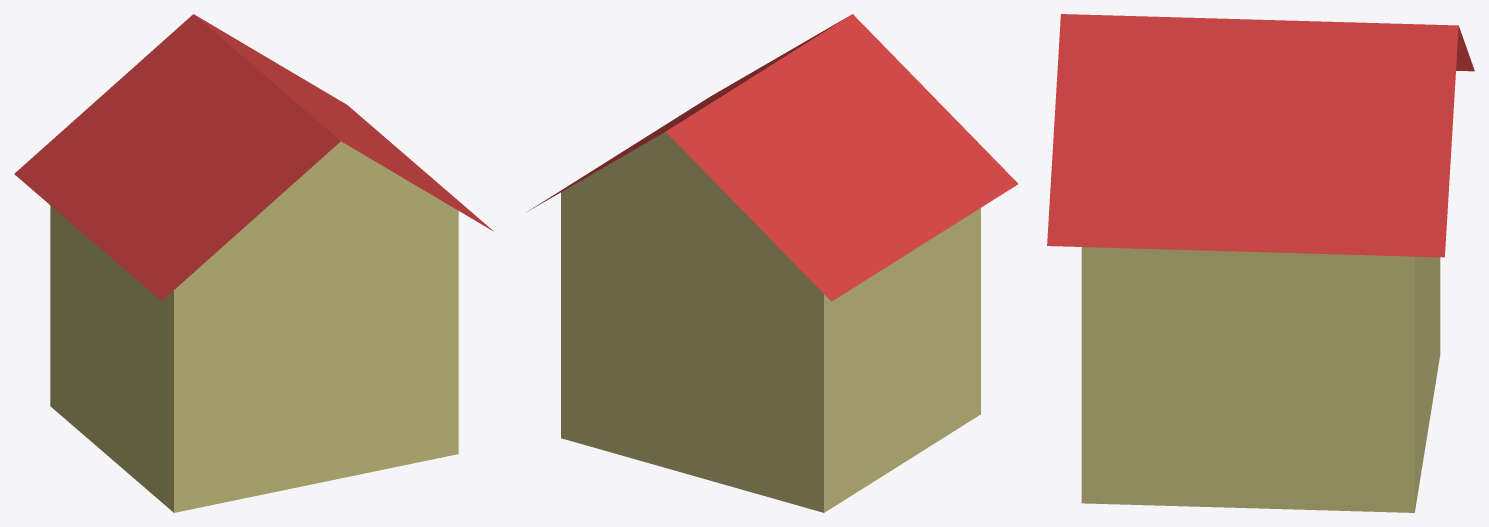
The picture shows the model from 3 angles, left to right: view 1: azimuth 30°, elevation 25°; view 2: azimuth 150°, elevation 25°; view 3: azimuth 270°, elevation 25°; orthographic projection. The views are drawn at different scales.
Bounding box in the file's own units: 14.43 × 13.21 × 14.18.
